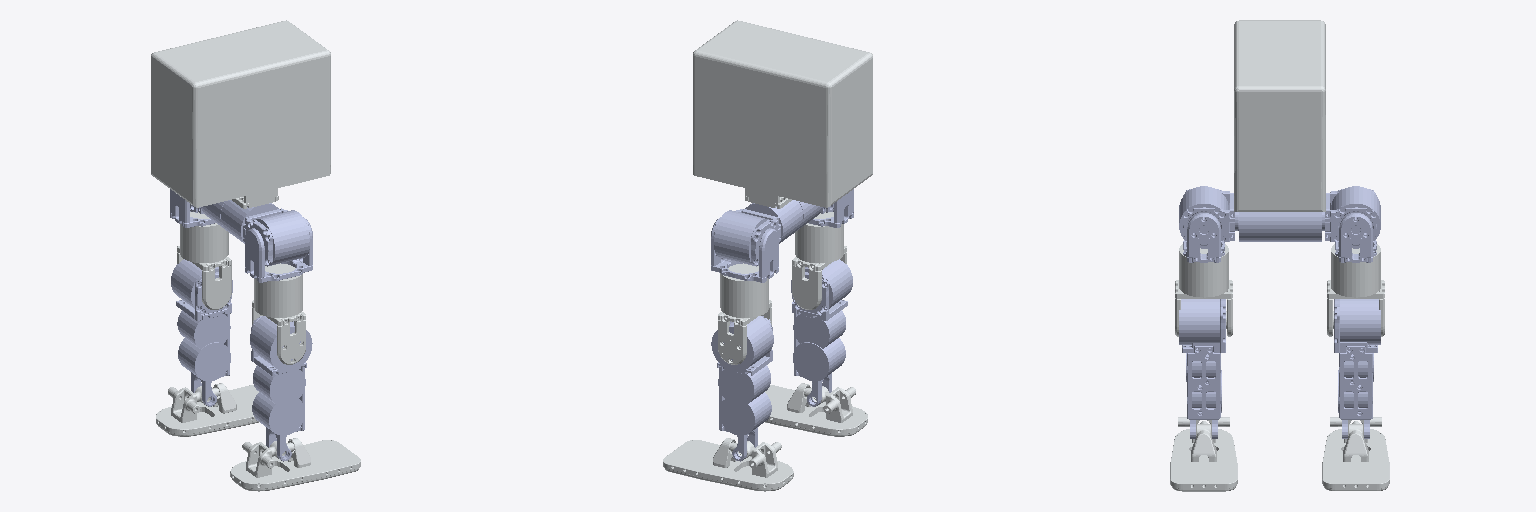
robot.urdf — minipi_12dof_250110:
<?xml version="1.0" encoding="utf-8"?>
<!-- This URDF was automatically created by SolidWorks to URDF Exporter! Originally created by [author] ([email redacted]) 
     Commit Version: 1.6.0-4-g7f85cfe  Build Version: 1.6.7995.38578
     For more information, please see http://wiki.ros.org/sw_urdf_exporter -->
<robot name="minipi_12dof_250110">
  <link name="base_link">
    <inertial>
      <origin xyz="0.00110346 0 0.07998382" rpy="0 0 0" />
      <mass value="2.4649" />
      <inertia ixx="0.0025527" ixy="0" ixz="-3.35E-06" iyy="0.00400225" iyz="0" izz="0.00286096" />
    </inertial>
    <visual>
      <origin xyz="0 0 0" rpy="0 0 0" />
      <geometry>
        <mesh filename="package://minipi_12dof_250110/meshes/base_link.STL" />
      </geometry>
      <material name="">
        <color rgba="0.89804 0.91765 0.92941 1" />
      </material>
    </visual>
    <collision>
      <origin xyz="0 0 0" rpy="0 0 0" />
      <geometry>
        <mesh filename="package://minipi_12dof_250110/meshes/base_link.STL" />
      </geometry>
    </collision>
  </link>
  <link name="l_hip_pitch_link">
    <inertial>
      <origin xyz="-0.00074639 -0.01340396 0" rpy="0 0 0" />
      <mass value="0.26840225" />
      <inertia ixx="0.00017926" ixy="9.95E-06" ixz="0" iyy="0.00010406" iyz="0" izz="0.000193" />
    </inertial>
    <visual>
      <origin xyz="0 0 0" rpy="0 0 0" />
      <geometry>
        <mesh filename="package://minipi_12dof_250110/meshes/l_hip_pitch_link.STL" />
      </geometry>
      <material name="">
        <color rgba="0.79216 0.81961 0.93333 1" />
      </material>
    </visual>
    <collision>
      <origin xyz="0 0 0" rpy="0 0 0" />
      <geometry>
        <mesh filename="package://minipi_12dof_250110/meshes/l_hip_pitch_link.STL" />
      </geometry>
    </collision>
  </link>
  <joint name="l_hip_pitch_joint" type="revolute">
    <origin xyz="0.00214758322456313 0.0436999999999998 -0.0322500000000001" rpy="0 0 0" />
    <parent link="base_link" />
    <child link="l_hip_pitch_link" />
    <axis xyz="0 1 0" />
    <limit lower="-1" upper="1" effort="21" velocity="21" />
  </joint>
  <link name="l_hip_roll_link">
    <inertial>
      <origin xyz="-0.023963 0 -0.0030691" rpy="0 0 0" />
      <mass value="0.27495" />
      <inertia ixx="0.00010816" ixy="0" ixz="-4.28E-06" iyy="0.0001412" iyz="0" izz="0.00012127" />
    </inertial>
    <visual>
      <origin xyz="0 0 0" rpy="0 0 0" />
      <geometry>
        <mesh filename="package://minipi_12dof_250110/meshes/l_hip_roll_link.STL" />
      </geometry>
      <material name="">
        <color rgba="0.79216 0.81961 0.93333 1" />
      </material>
    </visual>
    <collision>
      <origin xyz="0 0 0" rpy="0 0 0" />
      <geometry>
        <mesh filename="package://minipi_12dof_250110/meshes/l_hip_roll_link.STL" />
      </geometry>
    </collision>
  </link>
  <joint name="l_hip_roll_joint" type="revolute">
    <origin xyz="0.0235 0.0362999999999998 0" rpy="0 0 0" />
    <parent link="l_hip_pitch_link" />
    <child link="l_hip_roll_link" />
    <axis xyz="1 0 0" />
    <limit lower="-1" upper="1" effort="21" velocity="21" />
  </joint>
  <link name="l_thigh_link">
    <inertial>
      <origin xyz="0 -0.00069547 0.01118105" rpy="0 0 0" />
      <mass value="0.29535" />
      <inertia ixx="0.00023194" ixy="0" ixz="0" iyy="0.0001971" iyz="-1.024E-05" izz="0.000126" />
    </inertial>
    <visual>
      <origin xyz="0 0 0" rpy="0 0 0" />
      <geometry>
        <mesh filename="package://minipi_12dof_250110/meshes/l_thigh_link.STL" />
      </geometry>
      <material name="">
        <color rgba="0.89804 0.91765 0.92941 1" />
      </material>
    </visual>
    <collision>
      <origin xyz="0 0 0" rpy="0 0 0" />
      <geometry>
        <mesh filename="package://minipi_12dof_250110/meshes/l_thigh_link.STL" />
      </geometry>
    </collision>
  </link>
  <joint name="l_thigh_joint" type="revolute">
    <origin xyz="-0.0235 0 -0.0817" rpy="0 0 0" />
    <parent link="l_hip_roll_link" />
    <child link="l_thigh_link" />
    <axis xyz="0 0 1" />
    <limit lower="-1" upper="1" effort="21" velocity="21" />
  </joint>
  <link name="l_calf_link">
    <inertial>
      <origin xyz="0.00071444 -0.0249664 -0.0409766" rpy="0 0 0" />
      <mass value="0.59064065" />
      <inertia ixx="0.00010258" ixy="6.7E-07" ixz="1.148E-05" iyy="0.00096369" iyz="-4.053E-05" izz="0.00017091" />
    </inertial>
    <visual>
      <origin xyz="0 0 0" rpy="0 0 0" />
      <geometry>
        <mesh filename="package://minipi_12dof_250110/meshes/l_calf_link.STL" />
      </geometry>
      <material name="">
        <color rgba="0.79216 0.81961 0.93333 1" />
      </material>
    </visual>
    <collision>
      <origin xyz="0 0 0" rpy="0 0 0" />
      <geometry>
        <mesh filename="package://minipi_12dof_250110/meshes/l_calf_link.STL" />
      </geometry>
    </collision>
  </link>
  <joint name="l_calf_joint" type="revolute">
    <origin xyz="0 0.0264999999999997 -0.0382999999999999" rpy="0 0 0" />
    <parent link="l_thigh_link" />
    <child link="l_calf_link" />
    <axis xyz="0 1 0" />
    <limit lower="-1" upper="1" effort="21" velocity="21" />
  </joint>
  <link name="l_ankle_pitch_link">
    <inertial>
      <origin xyz="0.0013128 0.0084996 -0.004145" rpy="0 0 0" />
      <mass value="0.0089231" />
      <inertia ixx="2.3E-07" ixy="0" ixz="0" iyy="1.02E-06" iyz="0" izz="9.9E-07" />
    </inertial>
    <visual>
      <origin xyz="0 0 0" rpy="0 0 0" />
      <geometry>
        <mesh filename="package://minipi_12dof_250110/meshes/l_ankle_pitch_link.STL" />
      </geometry>
      <material name="">
        <color rgba="0.89804 0.91765 0.92941 1" />
      </material>
    </visual>
    <collision>
      <origin xyz="0 0 0" rpy="0 0 0" />
      <geometry>
        <mesh filename="package://minipi_12dof_250110/meshes/l_ankle_pitch_link.STL" />
      </geometry>
    </collision>
  </link>
  <joint name="l_ankle_pitch_joint" type="revolute">
    <origin xyz="-0.00141263490616071 -0.0349999999999977 -0.12585501881826" rpy="0 0 0" />
    <parent link="l_calf_link" />
    <child link="l_ankle_pitch_link" />
    <axis xyz="0 1 0" />
    <limit lower="-1" upper="1" effort="21" velocity="21" />
  </joint>
  <link name="l_ankle_roll_link">
    <inertial>
      <origin xyz="0.00265884 -3.23E-06 -0.0221598" rpy="0 0 0" />
      <mass value="0.25771965" />
      <inertia ixx="9.881E-05" ixy="-1E-08" ixz="1.586E-05" iyy="0.00038614" iyz="0" izz="0.00045625" />
    </inertial>
    <visual>
      <origin xyz="0 0 0" rpy="0 0 0" />
      <geometry>
        <mesh filename="package://minipi_12dof_250110/meshes/l_ankle_roll_link.STL" />
      </geometry>
      <material name="">
        <color rgba="0.89804 0.91765 0.92941 1" />
      </material>
    </visual>
    <collision>
      <origin xyz="0 0 0" rpy="0 0 0" />
      <geometry>
        <mesh filename="package://minipi_12dof_250110/meshes/l_ankle_roll_link.STL" />
      </geometry>
    </collision>
  </link>
  <joint name="l_ankle_roll_joint" type="revolute">
    <origin xyz="0.0164376349061596 0.00850000000000066 -0.00414498118183187" rpy="0 0 0" />
    <parent link="l_ankle_pitch_link" />
    <child link="l_ankle_roll_link" />
    <axis xyz="1 0 0" />
    <limit lower="-1" upper="1" effort="21" velocity="21" />
  </joint>
  <link name="r_hip_pitch_link">
    <inertial>
      <origin xyz="-0.00074639 0.006036 -1.3436E-10" rpy="0 0 0" />
      <mass value="0.26840225" />
      <inertia ixx="0.00017926" ixy="-9.95E-06" ixz="0" iyy="0.00010406" iyz="0" izz="0.000193" />
    </inertial>
    <visual>
      <origin xyz="0 0 0" rpy="0 0 0" />
      <geometry>
        <mesh filename="package://minipi_12dof_250110/meshes/r_hip_pitch_link.STL" />
      </geometry>
      <material name="">
        <color rgba="0.79216 0.81961 0.93333 1" />
      </material>
    </visual>
    <collision>
      <origin xyz="0 0 0" rpy="0 0 0" />
      <geometry>
        <mesh filename="package://minipi_12dof_250110/meshes/r_hip_pitch_link.STL" />
      </geometry>
    </collision>
  </link>
  <joint name="r_hip_pitch_joint" type="revolute">
    <origin xyz="0.00214758322456313 -0.0437000000000002 -0.0322500000000001" rpy="0 0 0" />
    <parent link="base_link" />
    <child link="r_hip_pitch_link" />
    <axis xyz="0 1 0" />
    <limit lower="-1" upper="1" effort="21" velocity="21" />
  </joint>
  <link name="r_hip_roll_link">
    <inertial>
      <origin xyz="-0.023963 0 -0.0030691" rpy="0 0 0" />
      <mass value="0.27495" />
      <inertia ixx="0.00010816" ixy="0" ixz="-4.28E-06" iyy="0.0001412" iyz="0" izz="0.00012127" />
    </inertial>
    <visual>
      <origin xyz="0 0 0" rpy="0 0 0" />
      <geometry>
        <mesh filename="package://minipi_12dof_250110/meshes/r_hip_roll_link.STL" />
      </geometry>
      <material name="">
        <color rgba="0.79216 0.81961 0.93333 1" />
      </material>
    </visual>
    <collision>
      <origin xyz="0 0 0" rpy="0 0 0" />
      <geometry>
        <mesh filename="package://minipi_12dof_250110/meshes/r_hip_roll_link.STL" />
      </geometry>
    </collision>
  </link>
  <joint name="r_hip_roll_joint" type="revolute">
    <origin xyz="0.0235 -0.0363 0" rpy="0 0 0" />
    <parent link="r_hip_pitch_link" />
    <child link="r_hip_roll_link" />
    <axis xyz="1 0 0" />
    <limit lower="-1" upper="1" effort="21" velocity="21" />
  </joint>
  <link name="r_thigh_link">
    <inertial>
      <origin xyz="0 0.00071139 0.011181" rpy="0 0 0" />
      <mass value="0.29535" />
      <inertia ixx="0.00023193" ixy="0" ixz="0" iyy="0.0001971" iyz="1.032E-05" izz="0.000126" />
    </inertial>
    <visual>
      <origin xyz="0 0 0" rpy="0 0 0" />
      <geometry>
        <mesh filename="package://minipi_12dof_250110/meshes/r_thigh_link.STL" />
      </geometry>
      <material name="">
        <color rgba="0.89804 0.91765 0.92941 1" />
      </material>
    </visual>
    <collision>
      <origin xyz="0 0 0" rpy="0 0 0" />
      <geometry>
        <mesh filename="package://minipi_12dof_250110/meshes/r_thigh_link.STL" />
      </geometry>
    </collision>
  </link>
  <joint name="r_thigh_joint" type="revolute">
    <origin xyz="-0.0235 0 -0.0817" rpy="0 0 0" />
    <parent link="r_hip_roll_link" />
    <child link="r_thigh_link" />
    <axis xyz="0 0 1" />
    <limit lower="-1" upper="1" effort="21" velocity="21" />
  </joint>
  <link name="r_calf_link">
    <inertial>
      <origin xyz="0.00077628 0.024905 -0.040977" rpy="0 0 0" />
      <mass value="0.59064" />
      <inertia ixx="0.00095524" ixy="-7.1E-07" ixz="1.24E-05" iyy="0.00096372" iyz="3.96E-05" izz="0.00017084" />
    </inertial>
    <visual>
      <origin xyz="0 0 0" rpy="0 0 0" />
      <geometry>
        <mesh filename="package://minipi_12dof_250110/meshes/r_calf_link.STL" />
      </geometry>
      <material name="">
        <color rgba="0.79216 0.81961 0.93333 1" />
      </material>
    </visual>
    <collision>
      <origin xyz="0 0 0" rpy="0 0 0" />
      <geometry>
        <mesh filename="package://minipi_12dof_250110/meshes/r_calf_link.STL" />
      </geometry>
    </collision>
  </link>
  <joint name="r_calf_joint" type="revolute">
    <origin xyz="0 -0.0265 -0.0383" rpy="0 0 0" />
    <parent link="r_thigh_link" />
    <child link="r_calf_link" />
    <axis xyz="0 1 0" />
    <limit lower="-1" upper="1" effort="21" velocity="21" />
  </joint>
  <link name="r_ankle_pitch_link">
    <inertial>
      <origin xyz="0 -0.0085004 0" rpy="0 0 0" />
      <mass value="0.0089231" />
      <inertia ixx="2.3E-07" ixy="0" ixz="0" iyy="1.02E-06" iyz="0" izz="9.9E-07" />
    </inertial>
    <visual>
      <origin xyz="0 0 0" rpy="0 0 0" />
      <geometry>
        <mesh filename="package://minipi_12dof_250110/meshes/r_ankle_pitch_link.STL" />
      </geometry>
      <material name="">
        <color rgba="0.89804 0.91765 0.92941 1" />
      </material>
    </visual>
    <collision>
      <origin xyz="0 0 0" rpy="0 0 0" />
      <geometry>
        <mesh filename="package://minipi_12dof_250110/meshes/r_ankle_pitch_link.STL" />
      </geometry>
    </collision>
  </link>
  <joint name="r_ankle_pitch_joint" type="revolute">
    <origin xyz="0 0.0349 -0.130000000000069" rpy="0 0 0" />
    <parent link="r_calf_link" />
    <child link="r_ankle_pitch_link" />
    <axis xyz="0 1 0" />
    <limit lower="-1" upper="1" effort="21" velocity="21" />
  </joint>
  <link name="r_ankle_roll_link">
    <inertial>
      <origin xyz="0.0026588 -3.23E-06 -0.0098754" rpy="0 0 0" />
      <mass value="0.25772" />
      <inertia ixx="9.881E-05" ixy="-1E-08" ixz="1.586E-05" iyy="0.00038614" iyz="0" izz="0.00045625" />
    </inertial>
    <visual>
      <origin xyz="0 0 0" rpy="0 0 0" />
      <geometry>
        <mesh filename="package://minipi_12dof_250110/meshes/r_ankle_roll_link.STL" />
      </geometry>
      <material name="">
        <color rgba="0.89804 0.91765 0.92941 1" />
      </material>
    </visual>
    <collision>
      <origin xyz="0 0 0" rpy="0 0 0" />
      <geometry>
        <mesh filename="package://minipi_12dof_250110/meshes/r_ankle_roll_link.STL" />
      </geometry>
    </collision>
  </link>
  <joint name="r_ankle_roll_joint" type="revolute">
    <origin xyz="0.0151250000000005 -0.00849999999999948 -0.0122844359977193" rpy="0 0 0" />
    <parent link="r_ankle_pitch_link" />
    <child link="r_ankle_roll_link" />
    <axis xyz="1 0 0" />
    <limit lower="-1" upper="1" effort="21" velocity="21" />
  </joint>
</robot>

--- Facts derived from the render (not from the file) ---
The picture shows the robot from 3 angles, left to right: view 1: azimuth 30°, elevation 25°; view 2: azimuth 150°, elevation 25°; view 3: azimuth 270°, elevation 25°; orthographic projection.
Robot: minipi_12dof_250110 — 13 links, 12 joints (12 revolute); root link base_link; default pose: every joint at zero.
Visible links, largest first — view 1: base_link, r_calf_link, l_calf_link, r_ankle_roll_link, l_ankle_roll_link, r_hip_roll_link, r_thigh_link, l_thigh_link, r_hip_pitch_link, l_hip_roll_link; view 2: base_link, l_calf_link, r_calf_link, l_ankle_roll_link, r_ankle_roll_link, l_thigh_link, l_hip_roll_link, r_thigh_link, l_hip_pitch_link, r_hip_roll_link; view 3: base_link, l_calf_link, r_calf_link, r_ankle_roll_link, l_ankle_roll_link, r_hip_roll_link, l_hip_roll_link, l_thigh_link, r_thigh_link, l_hip_pitch_link, r_hip_pitch_link.
Boxes of the visible links, x1,y1,x2,y2 form: base_link: [151, 20, 330, 208]; r_calf_link: [250, 316, 312, 461]; l_calf_link: [171, 259, 232, 406]; r_ankle_roll_link: [230, 438, 360, 491]; l_ankle_roll_link: [156, 383, 258, 436]; r_hip_roll_link: [245, 210, 312, 282]; r_thigh_link: [252, 263, 305, 364]; l_thigh_link: [177, 212, 231, 309]; r_hip_pitch_link: [221, 200, 309, 265]; l_hip_roll_link: [170, 189, 214, 227]; base_link: [693, 20, 872, 208]; l_calf_link: [711, 316, 773, 461]; r_calf_link: [791, 259, 852, 406]; l_ankle_roll_link: [663, 438, 793, 491]; r_ankle_roll_link: [765, 383, 867, 436]; l_thigh_link: [718, 263, 771, 364]; l_hip_roll_link: [711, 210, 778, 282]; r_thigh_link: [792, 212, 846, 309]; l_hip_pitch_link: [714, 200, 802, 265]; r_hip_roll_link: [809, 189, 853, 227]; base_link: [1234, 20, 1325, 211]; l_calf_link: [1334, 299, 1380, 438]; r_calf_link: [1179, 299, 1225, 438]; r_ankle_roll_link: [1170, 417, 1237, 491]; l_ankle_roll_link: [1322, 417, 1389, 490]; r_hip_roll_link: [1179, 186, 1228, 262]; l_hip_roll_link: [1331, 186, 1380, 262]; l_thigh_link: [1327, 244, 1384, 336]; r_thigh_link: [1175, 244, 1232, 336]; l_hip_pitch_link: [1280, 189, 1376, 245]; r_hip_pitch_link: [1183, 189, 1279, 245].
Size in the robot's own frame: 0.1739 by 0.2311 by 0.4698 metres.
Meshes: 13 distinct files referenced, 13 mesh visuals loaded (13 binary STL).